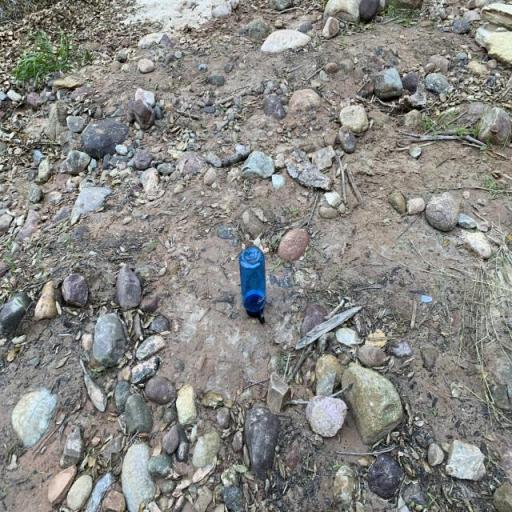bottle: (239, 246, 266, 325)
